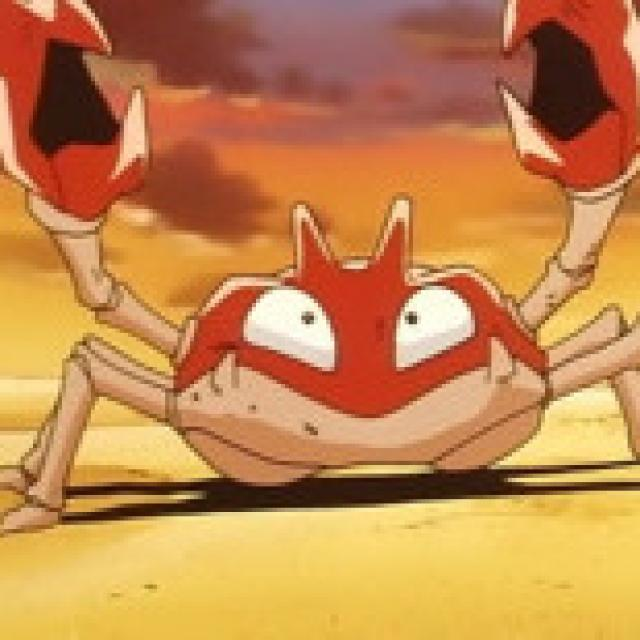Krabby: (57, 124, 640, 472)
